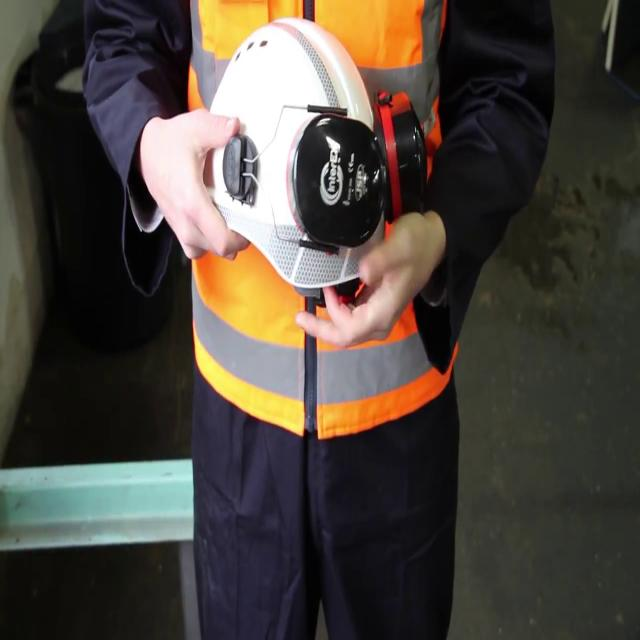earmuff: (282, 108, 392, 253), (371, 78, 428, 236)
helmet: (193, 15, 390, 316)
